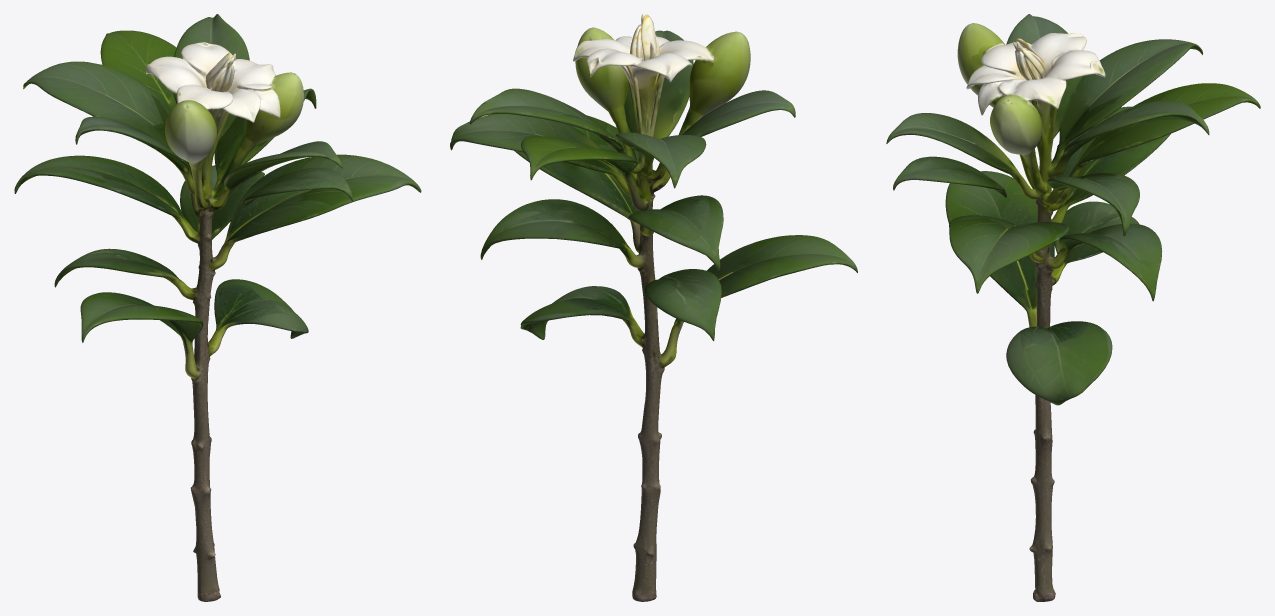
3 views of the same model, side by side, from view 1: azimuth 30°, elevation 25°; view 2: azimuth 150°, elevation 25°; view 3: azimuth 270°, elevation 25° (orthographic). The views are drawn at different scales.
Visible parts, largest first — view 1: node_0; view 2: node_0; view 3: node_0.
Part boxes in pixels (x1,y1,x2,y2): node_0: (14, 14, 421, 601); node_0: (450, 14, 857, 601); node_0: (886, 14, 1260, 601).
Size of the model in its own units: 0.7787 by 1.18 by 0.7106.
1 material, 1 textured.
